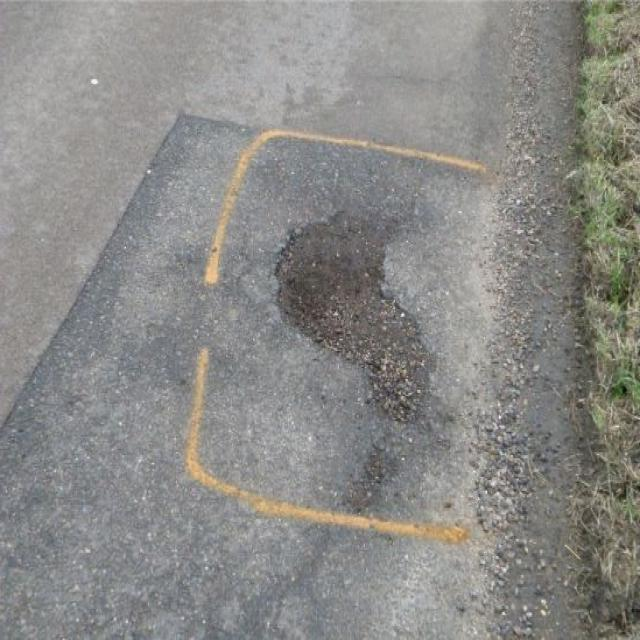Pothole: (274, 199, 437, 423)
